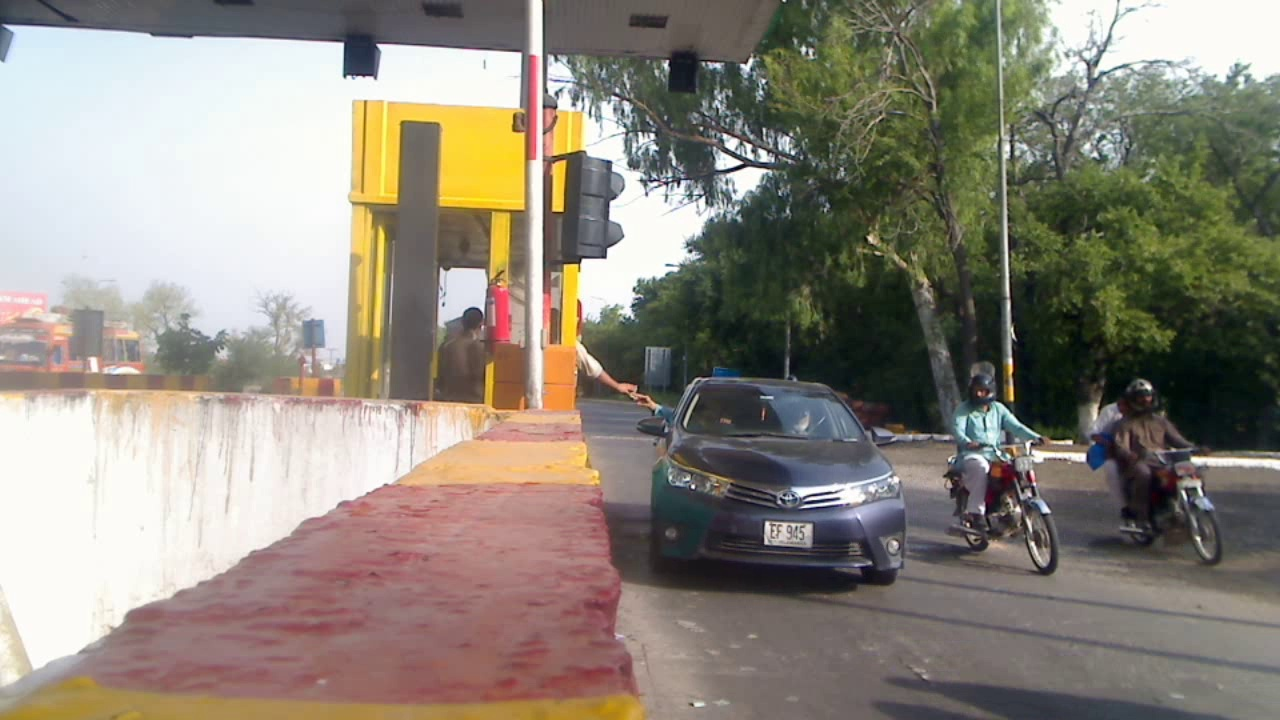Number Plate (Car): (766, 522, 813, 546)
